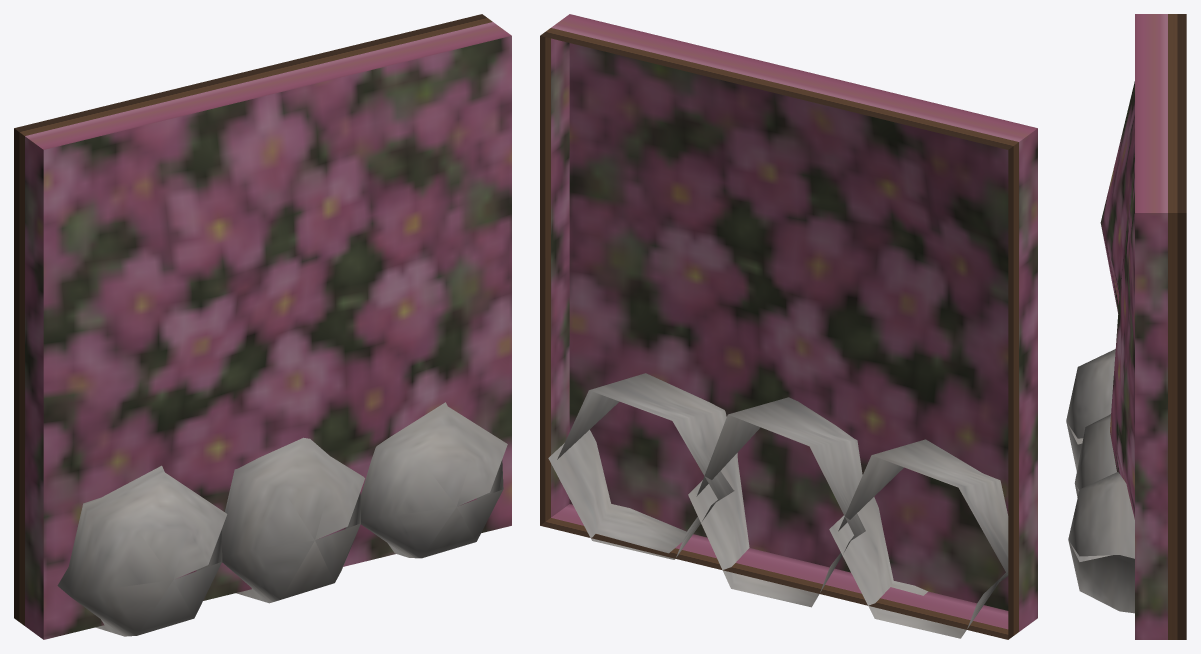
File: keep-bed-palepink-stones-n.obj
The picture shows the model from 3 angles, left to right: view 1: azimuth 30°, elevation 25°; view 2: azimuth 150°, elevation 25°; view 3: azimuth 270°, elevation 25°; orthographic projection. The views are drawn at different scales.
Parts seen in each view (by area): view 1: bed-palepink-stones-n; view 2: bed-palepink-stones-n; view 3: bed-palepink-stones-n.
Boxes of the visible parts, box(x1,y1,x2,y2) form: bed-palepink-stones-n: box(14, 14, 511, 639); bed-palepink-stones-n: box(540, 14, 1037, 639); bed-palepink-stones-n: box(1066, 14, 1186, 639).
Bounding box in the file's own units: 1 × 1.03 × 0.2562.
1 material, 1 textured.
